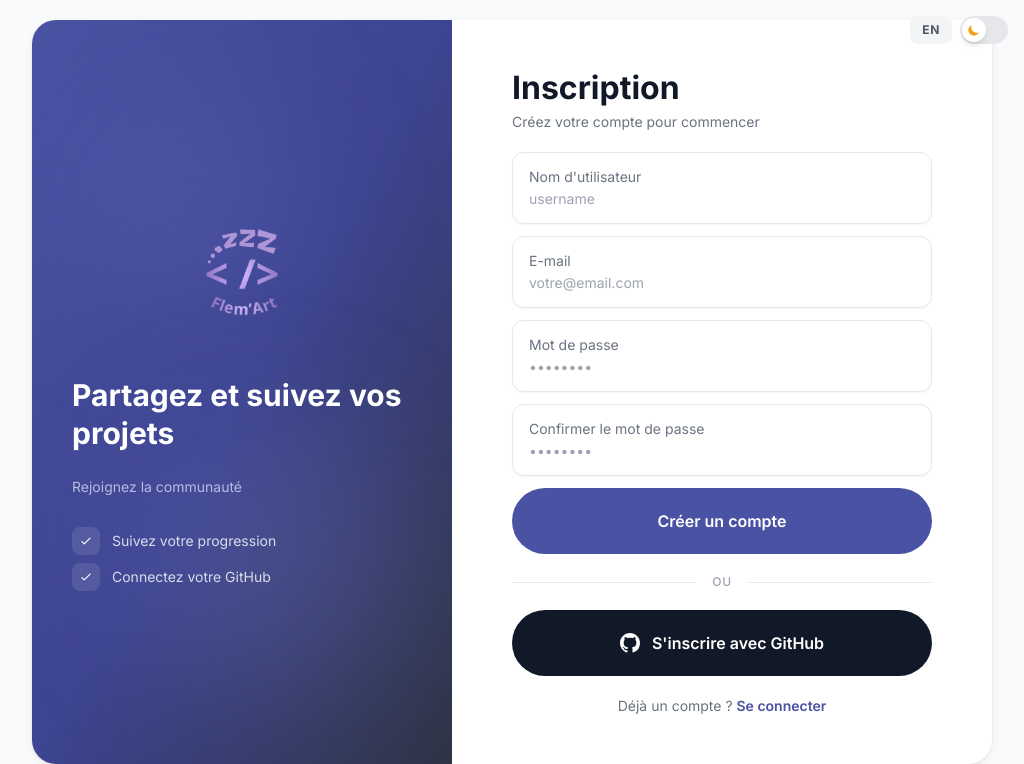
Test: Register Component › should show an error if passwords do not match
In the field with placeholder "username": (722, 199) x1=529 y1=189 x2=915 y2=209, type "testuser"
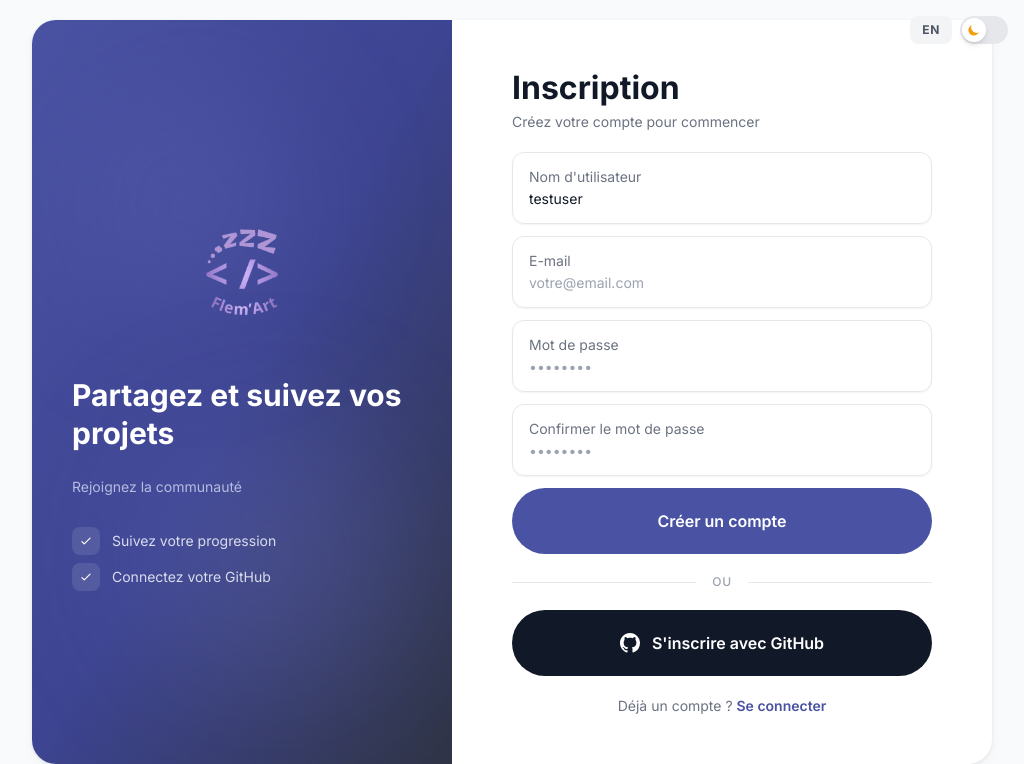
In the field with placeholder "votre@email.com": (722, 283) x1=529 y1=273 x2=915 y2=293, type "test@example.com"
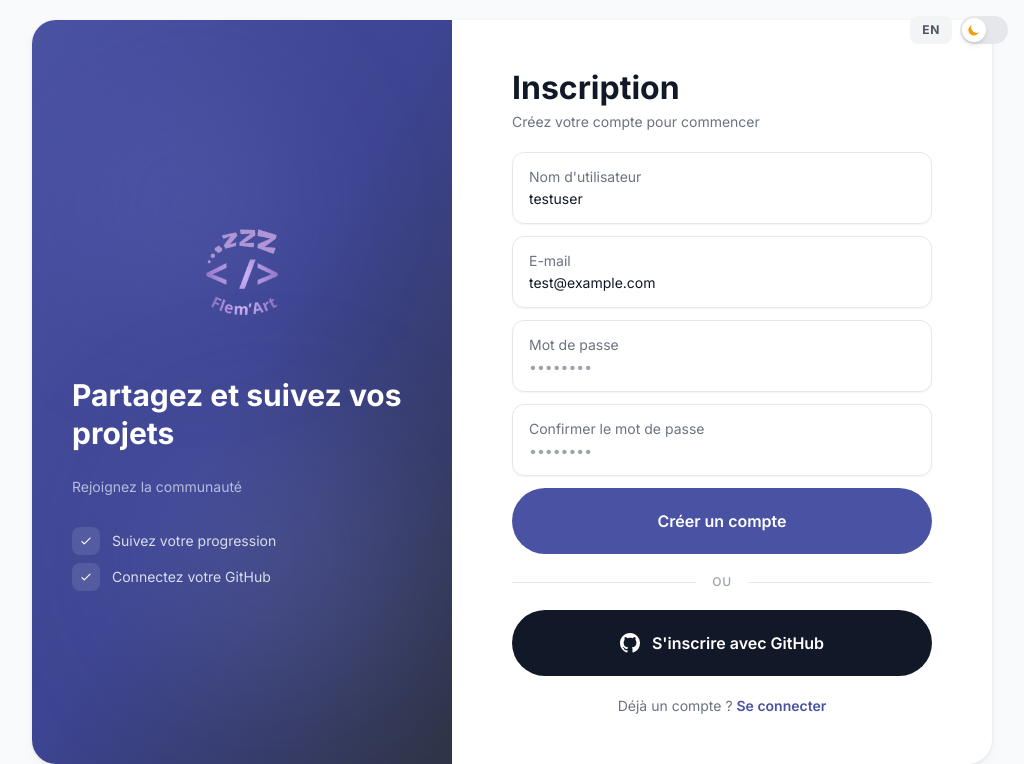
In the password field with placeholder "••••••••": (722, 367) x1=529 y1=357 x2=915 y2=377, type "password123"
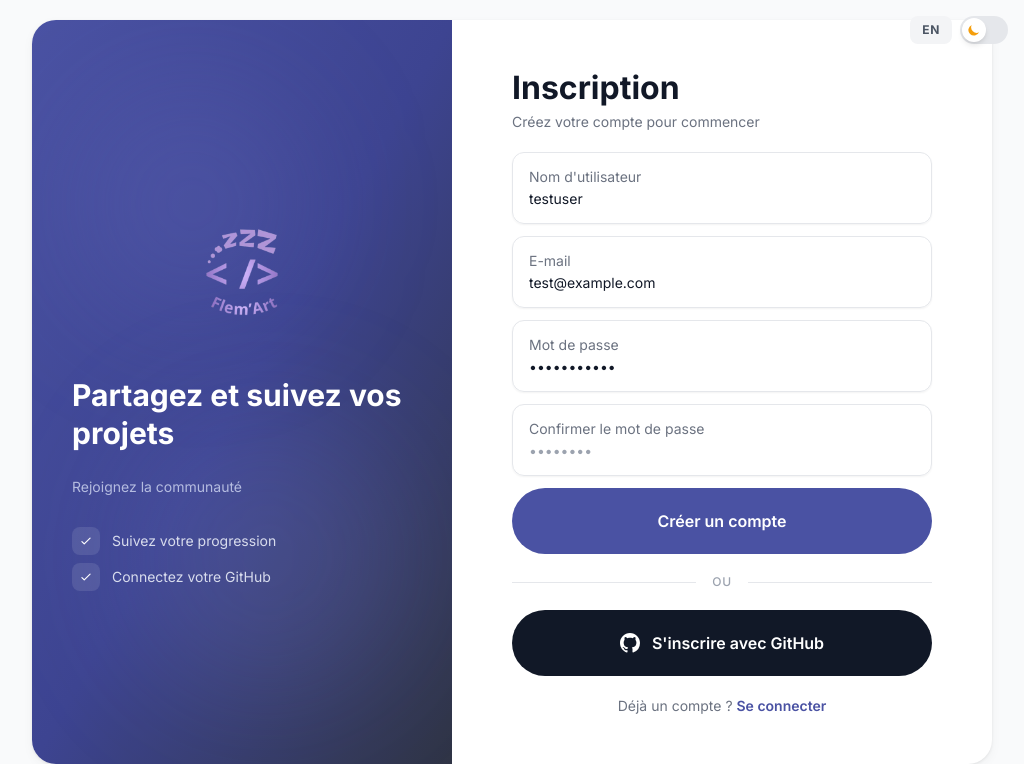
In the password field with placeholder "••••••••": (722, 451) x1=529 y1=441 x2=915 y2=461, type "password456"
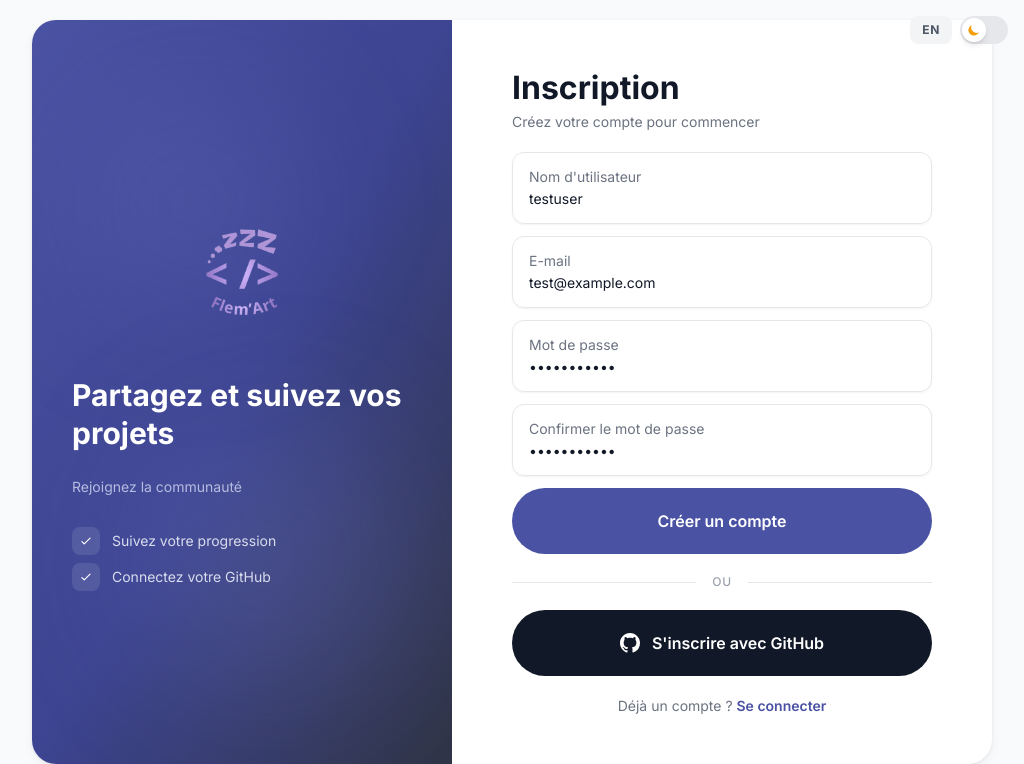
Click the button "Créer un compte": (722, 521) x1=512 y1=488 x2=932 y2=554
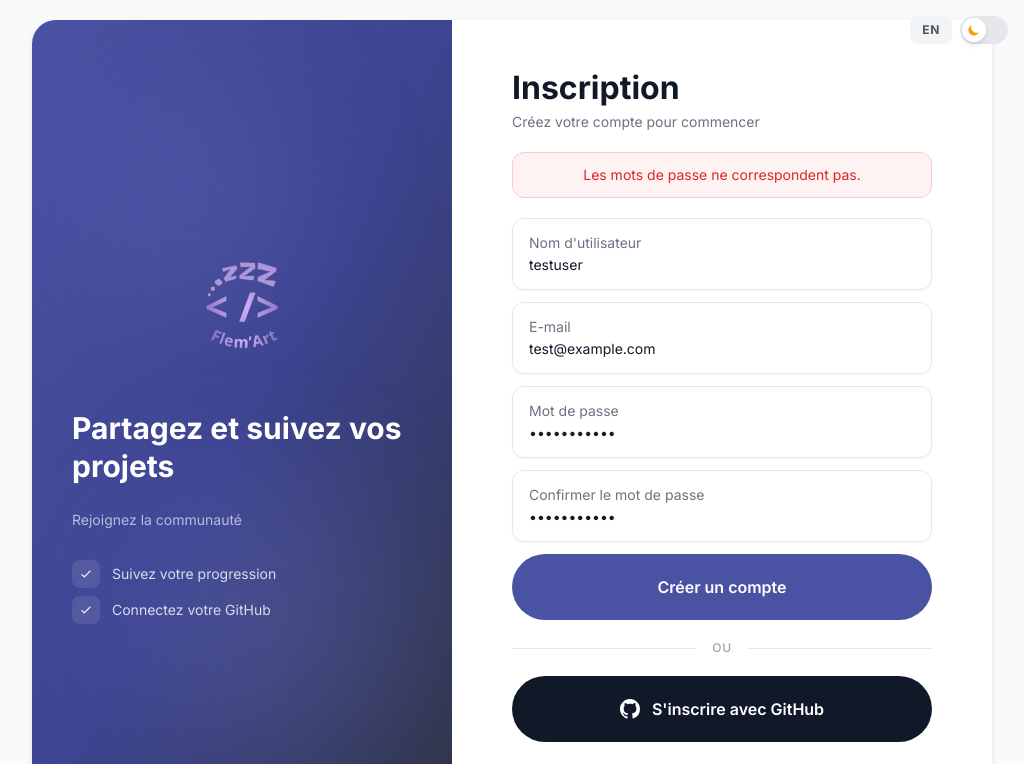
Now the text "Les mots de passe ne correspondent pas." is shown, box x1=512 y1=152 x2=932 y2=198
